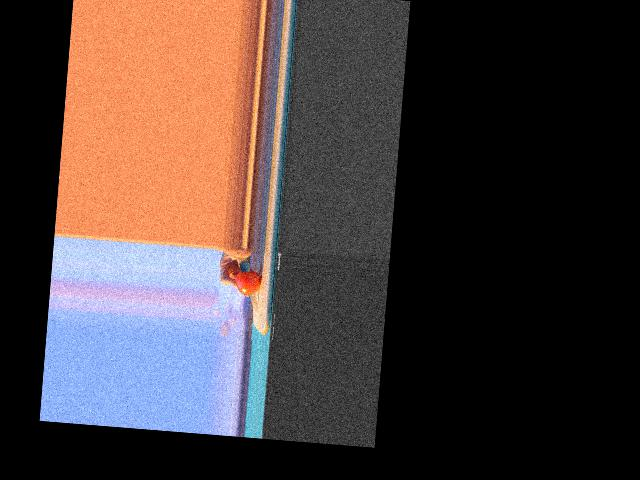tomato: (235, 269, 261, 296)
